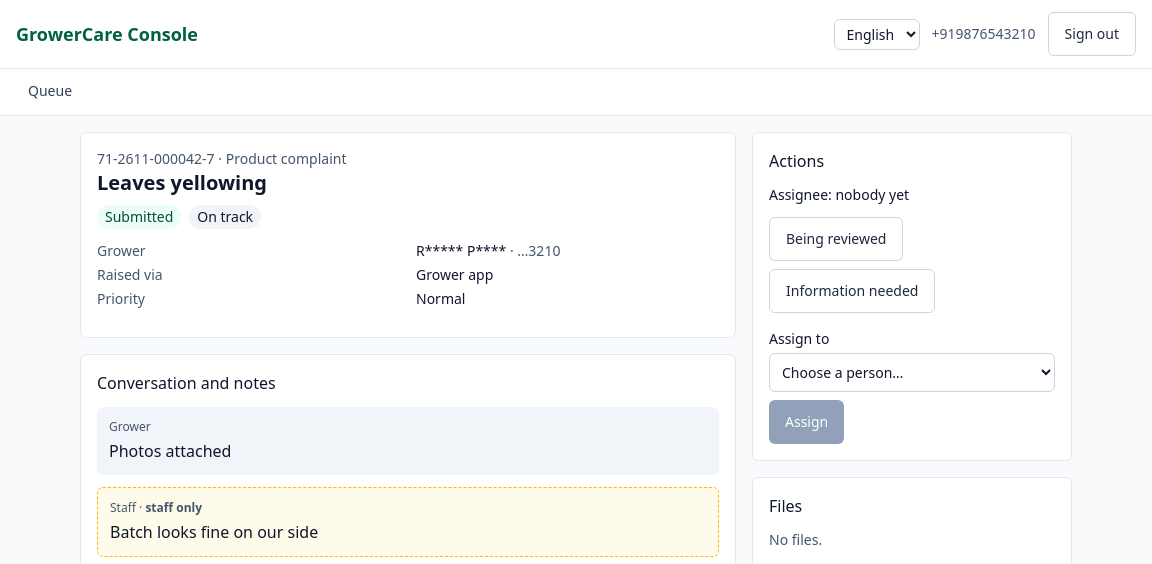
Test: SPEC-FE-03 R202–R204 the case for staff (J5, J6) › FE-E203 a move on a case changed in another tab is refused (412) and offers a reload
Later steps or results of the test are not shown.
Click the button "Information needed" at (852, 291), box left=769, top=269, right=935, bottom=313
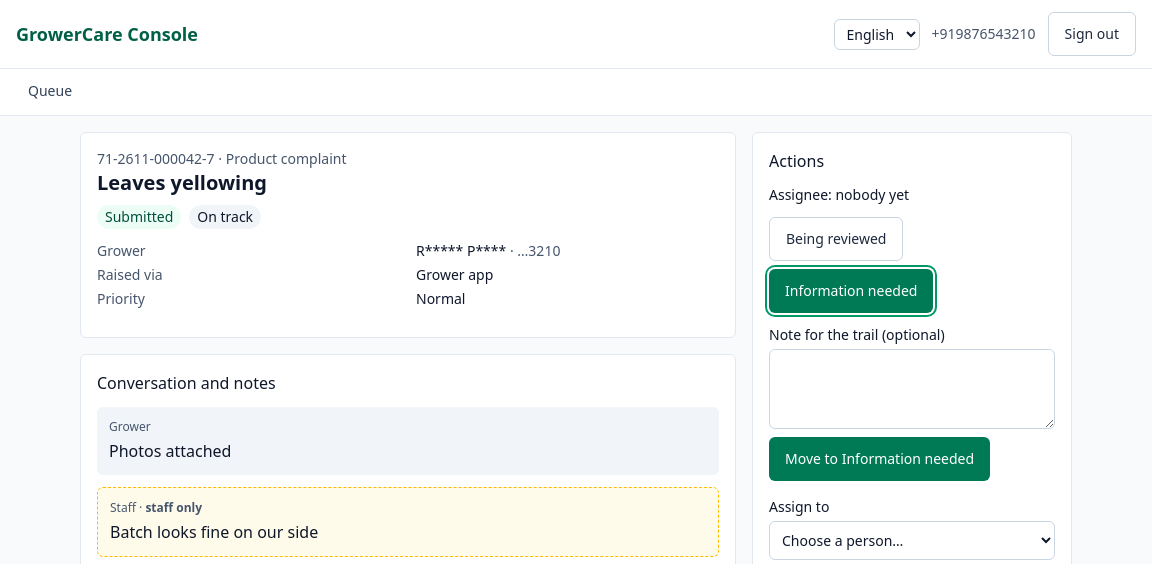
Click the button "Move to Information needed" at (880, 459), box left=769, top=437, right=990, bottom=481
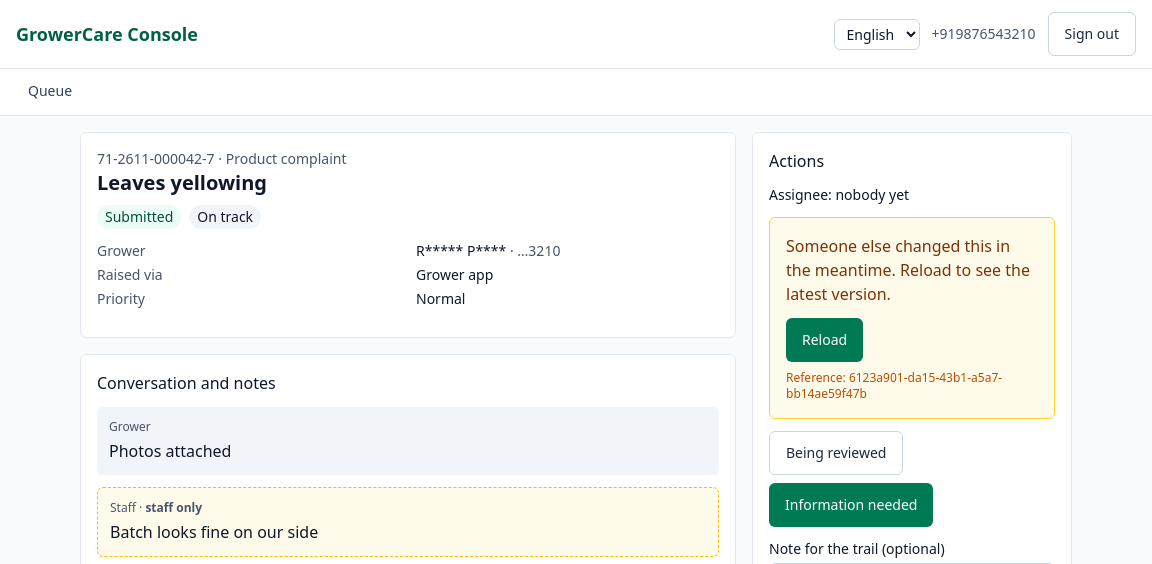
Now the text "Someone else changed this" is shown, box left=786, top=235, right=1030, bottom=305
